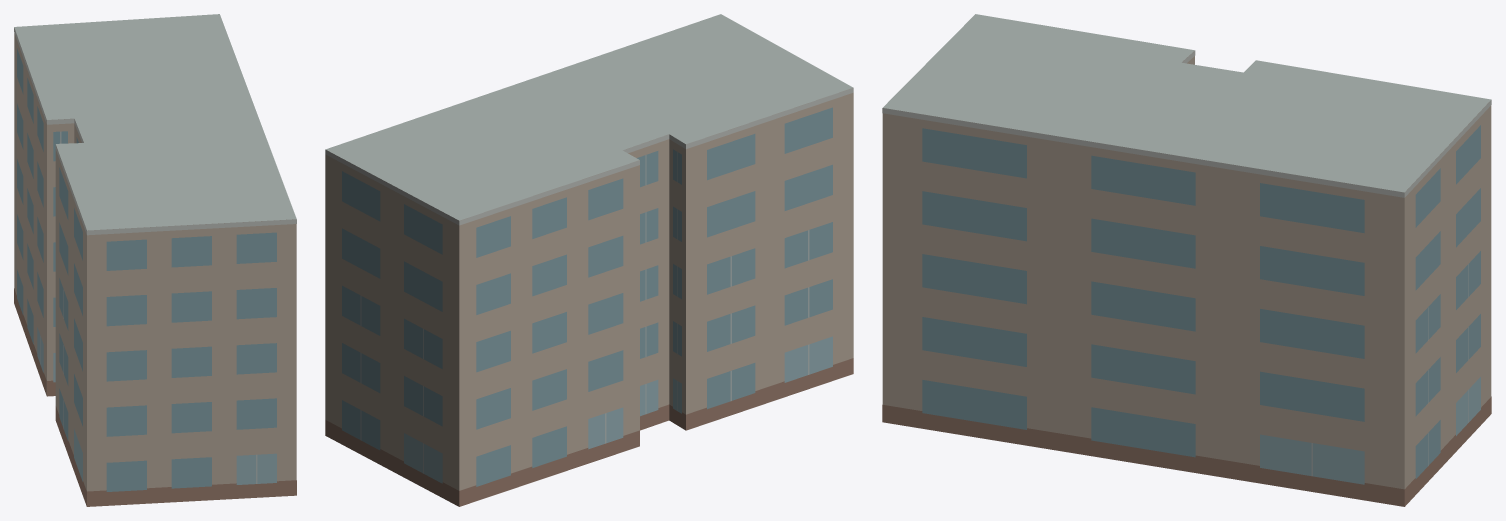
The model's file is survey-upis-32880544.glb.
The picture shows the model from 3 angles, left to right: view 1: azimuth 30°, elevation 25°; view 2: azimuth 150°, elevation 25°; view 3: azimuth 270°, elevation 25°; orthographic projection. The views are drawn at different scales.
Parts seen in each view (by area): view 1: survey-upis-32880544.tmp; view 2: survey-upis-32880544.tmp; view 3: survey-upis-32880544.tmp.
Boxes of the visible parts, left/top/right/bottom form: survey-upis-32880544.tmp: left=14, top=14, right=296, bottom=506; survey-upis-32880544.tmp: left=325, top=14, right=853, bottom=506; survey-upis-32880544.tmp: left=882, top=14, right=1491, bottom=506.
Size of the model in its own units: 17.3 by 14.2 by 24.94.
